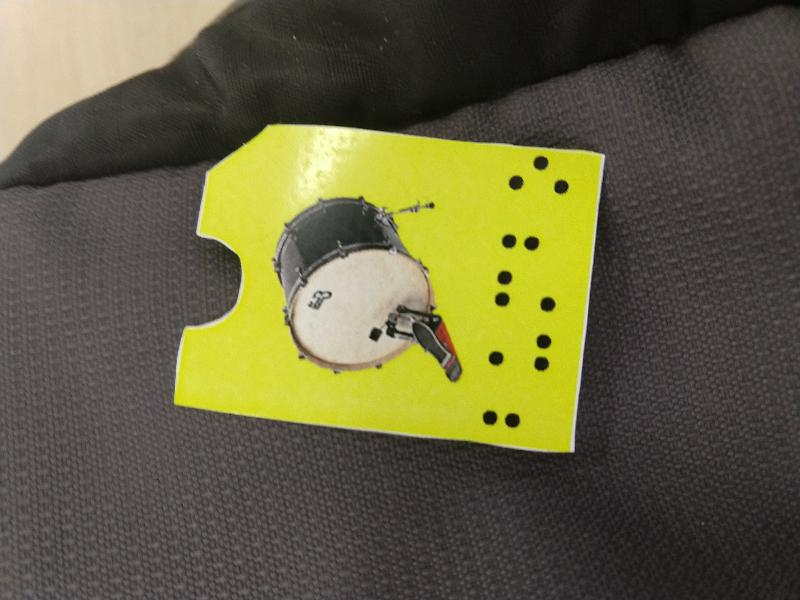bumbo: (169, 111, 608, 464)
